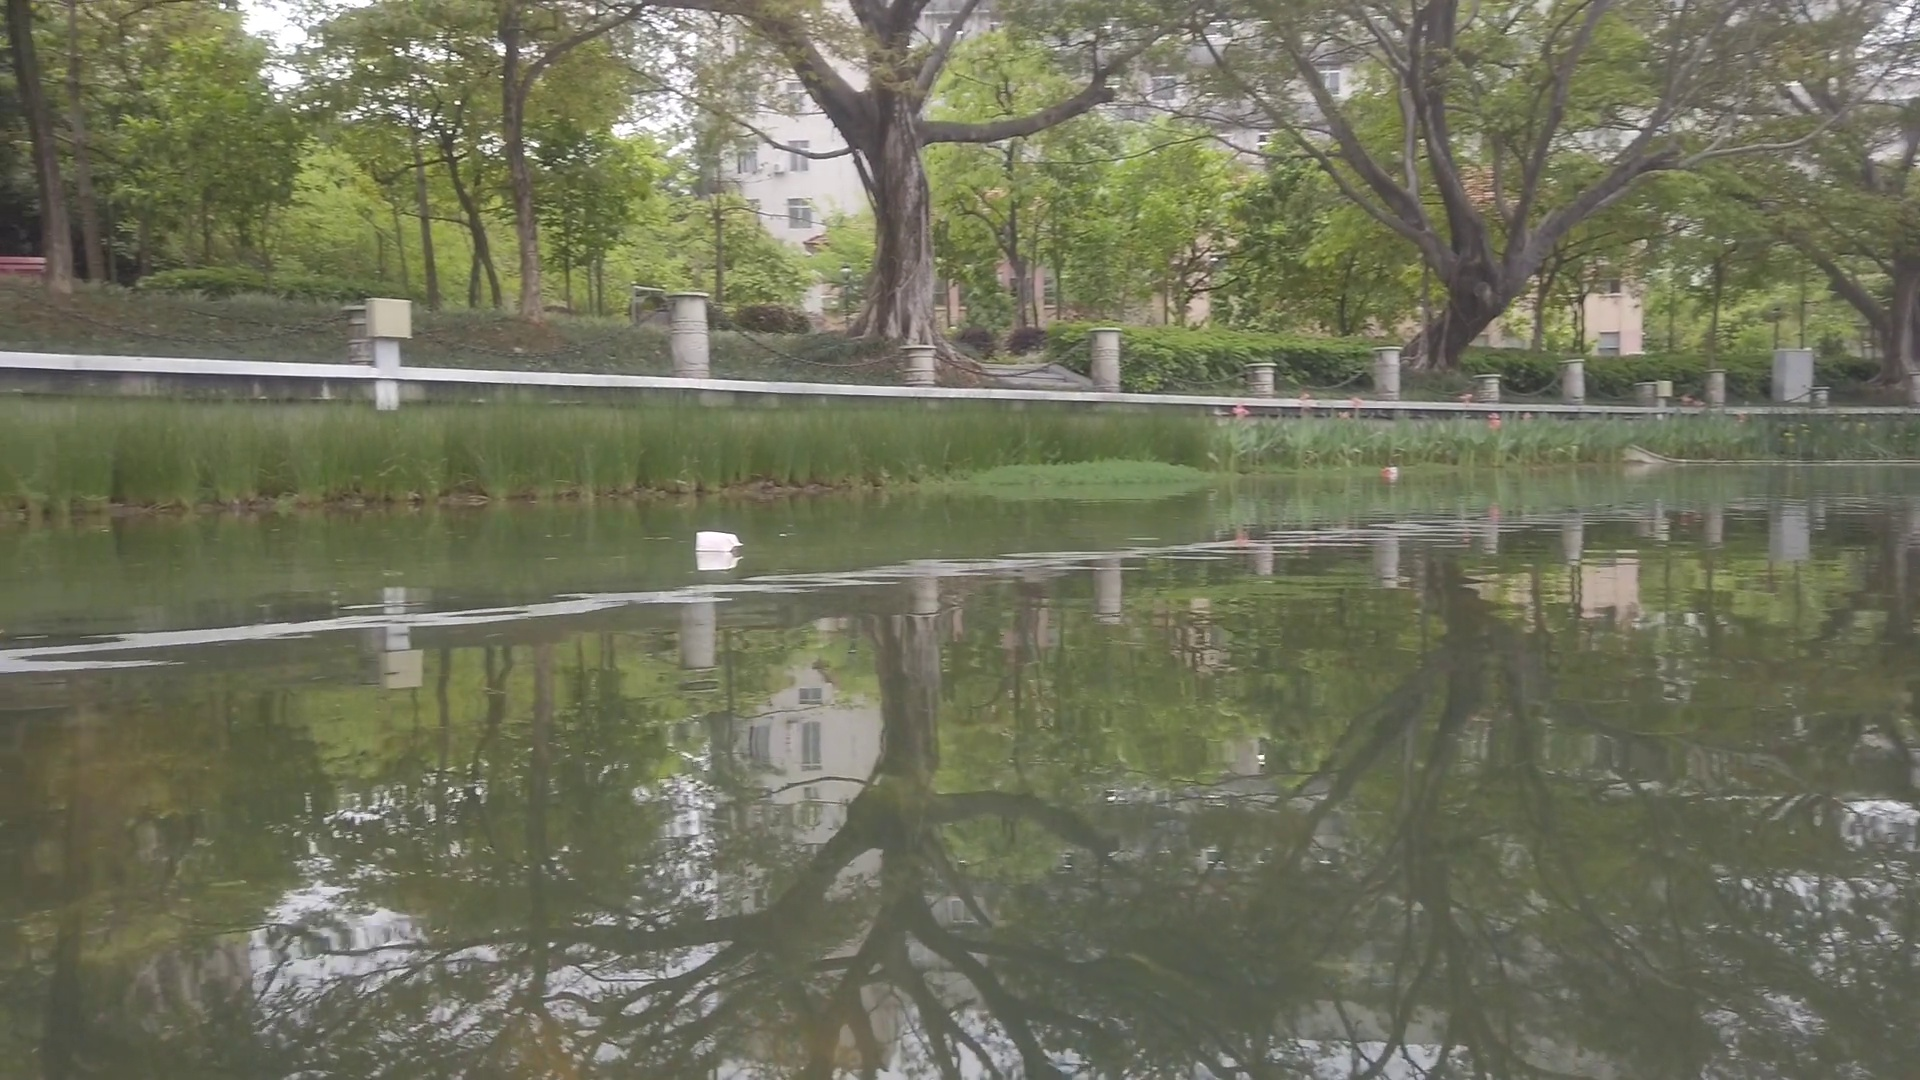bottle: (1381, 467, 1398, 475)
carton: (694, 527, 745, 550)
